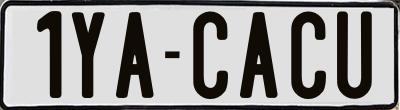1: (35, 9, 60, 102)
A: (114, 12, 154, 104), (239, 12, 279, 103)
C: (290, 8, 330, 98), (192, 10, 231, 98)
U: (335, 10, 375, 98)
Y: (72, 10, 111, 98)
